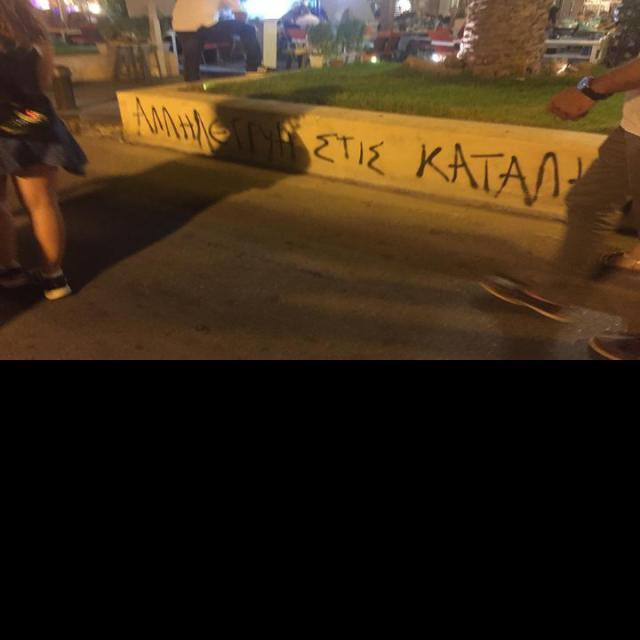nonspitting: (134, 98, 386, 176), (416, 141, 584, 207)
